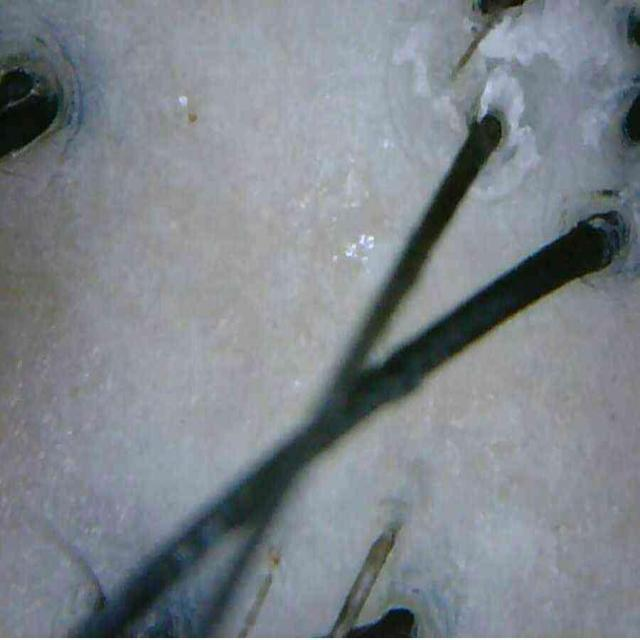d: (479, 2, 620, 74), (471, 126, 540, 202), (478, 66, 525, 132)
ds: (392, 21, 432, 96), (432, 95, 464, 132)
o: (331, 234, 375, 264)
